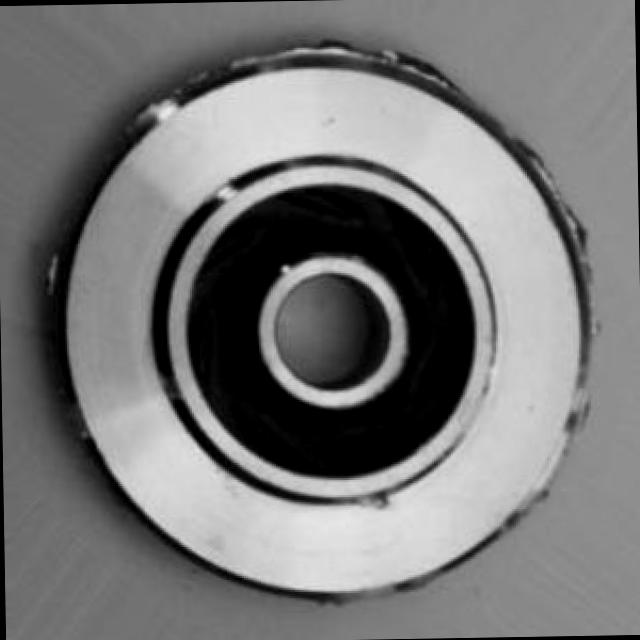Defect: (274, 32, 416, 64)
